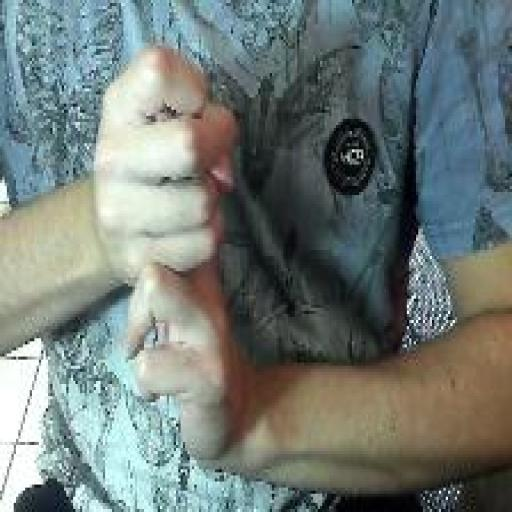Ne -rat-: (89, 40, 249, 466)
